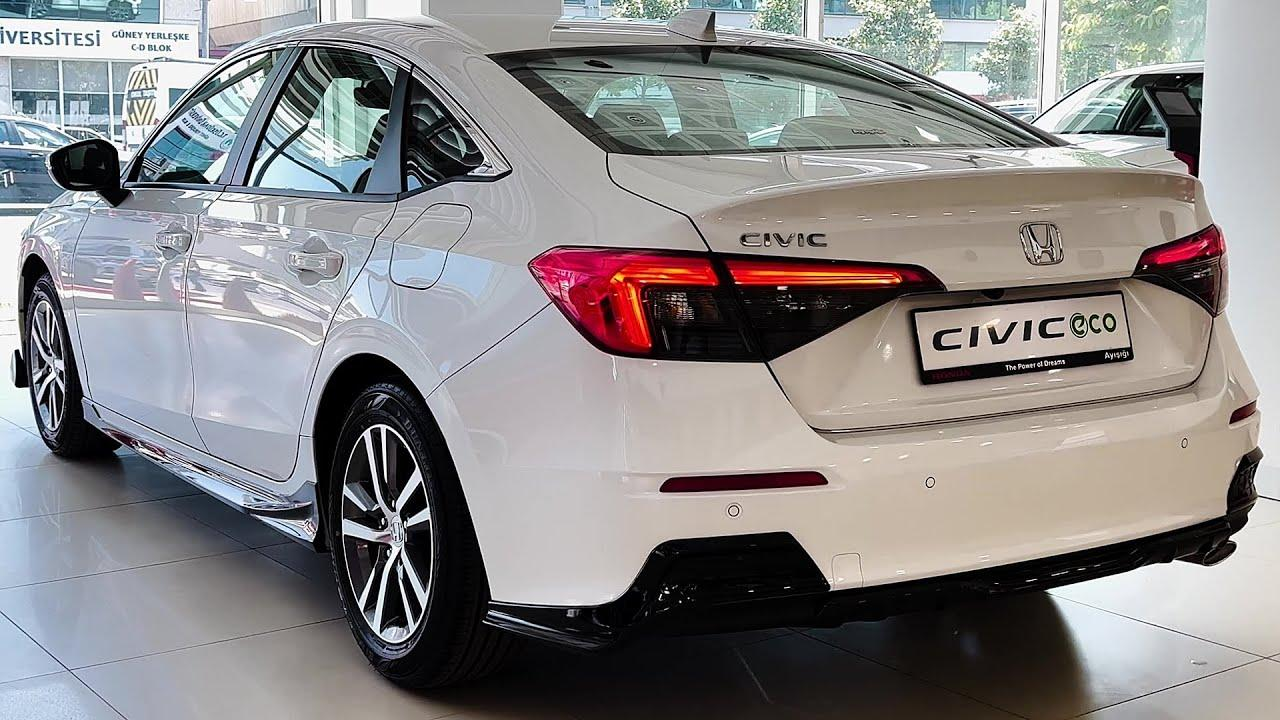car: (2, 3, 1270, 703)
